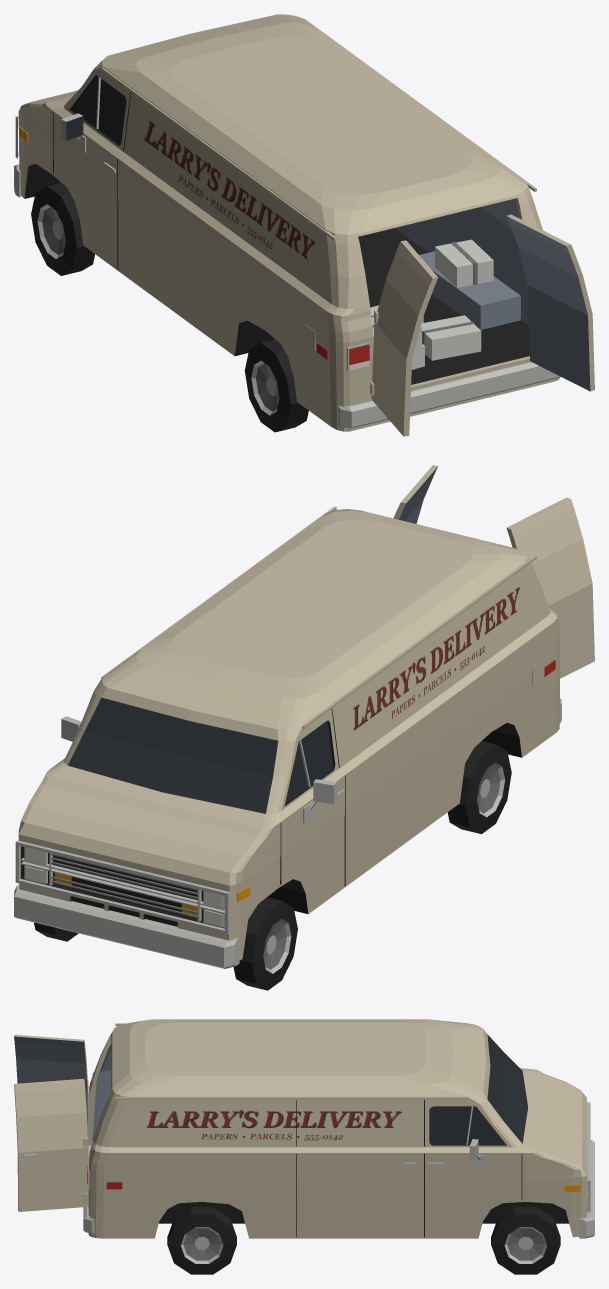
The model's file is uncle-van.glb.
The picture shows the model from 3 angles, top to bottom: view 1: azimuth 30°, elevation 25°; view 2: azimuth 150°, elevation 25°; view 3: azimuth 270°, elevation 25°; orthographic projection. The views are drawn at different scales.
Parts seen in each view (by area): view 1: UncleVan; view 2: UncleVan; view 3: UncleVan.
Part boxes in pixels (x1,y1,x2,y2): UncleVan: (14, 14, 594, 436); UncleVan: (14, 465, 594, 990); UncleVan: (14, 1019, 594, 1274).
Size of the model in its own units: 2.34 by 2 by 5.7.
Materials: 11 (1 with a texture image).
